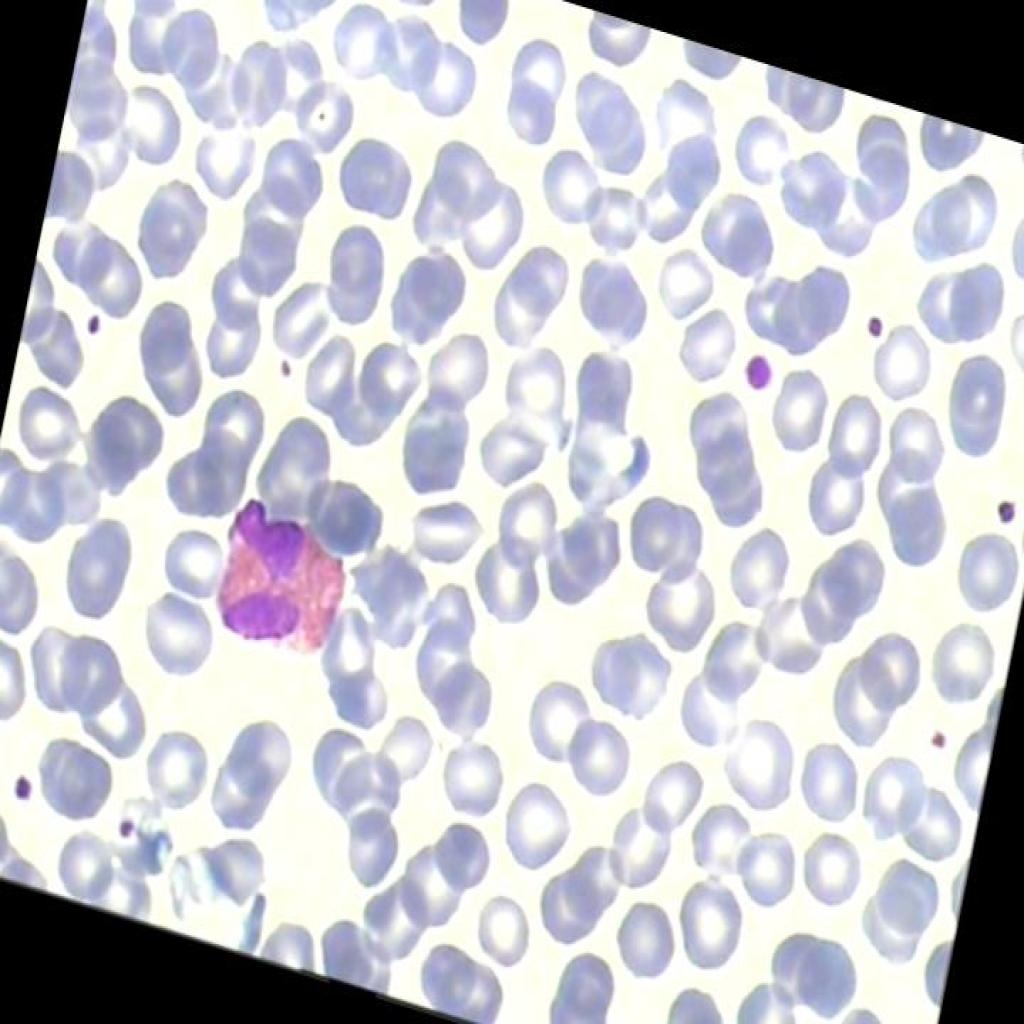Eosinofil: (194, 473, 362, 684)
Platelet: (264, 336, 313, 414), (728, 340, 777, 410), (856, 293, 895, 361), (77, 290, 119, 352), (984, 482, 1023, 548), (919, 711, 960, 768), (105, 795, 144, 848), (2, 757, 38, 809)
